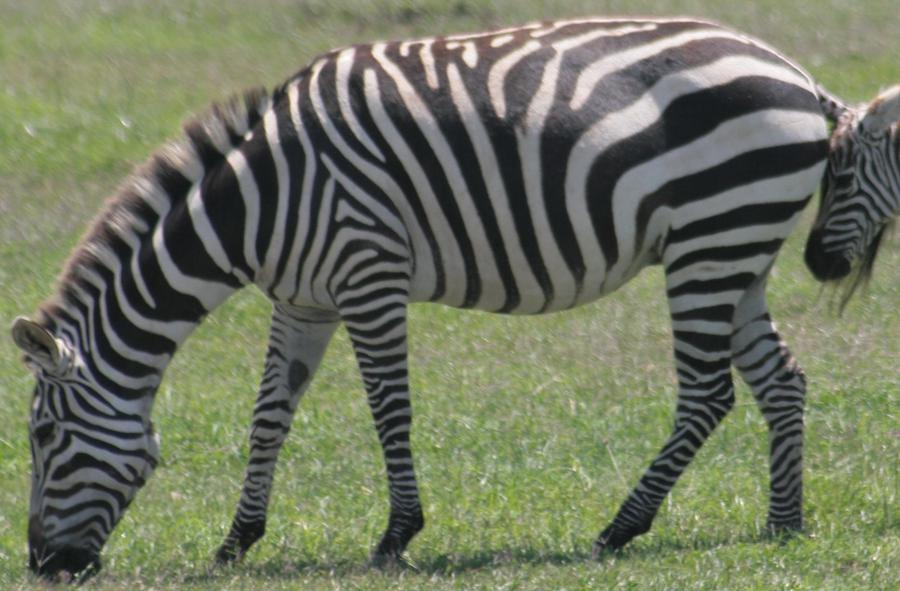zebra_plains: (250, 15, 806, 322)
